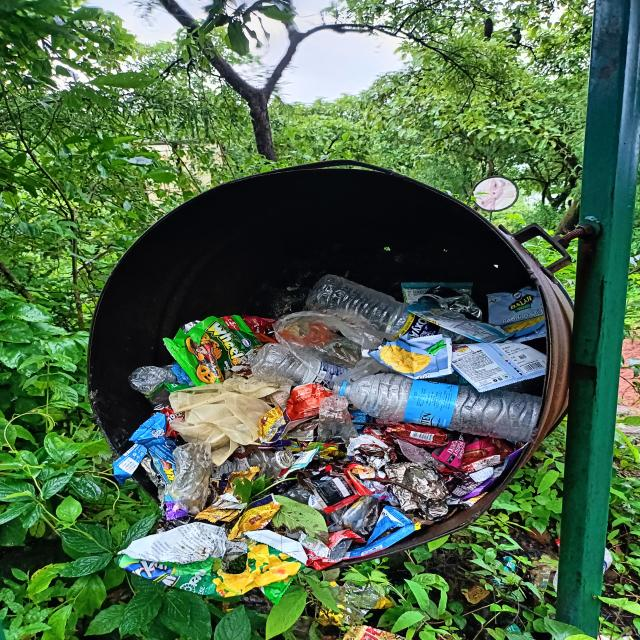garbage: (124, 257, 556, 592)
